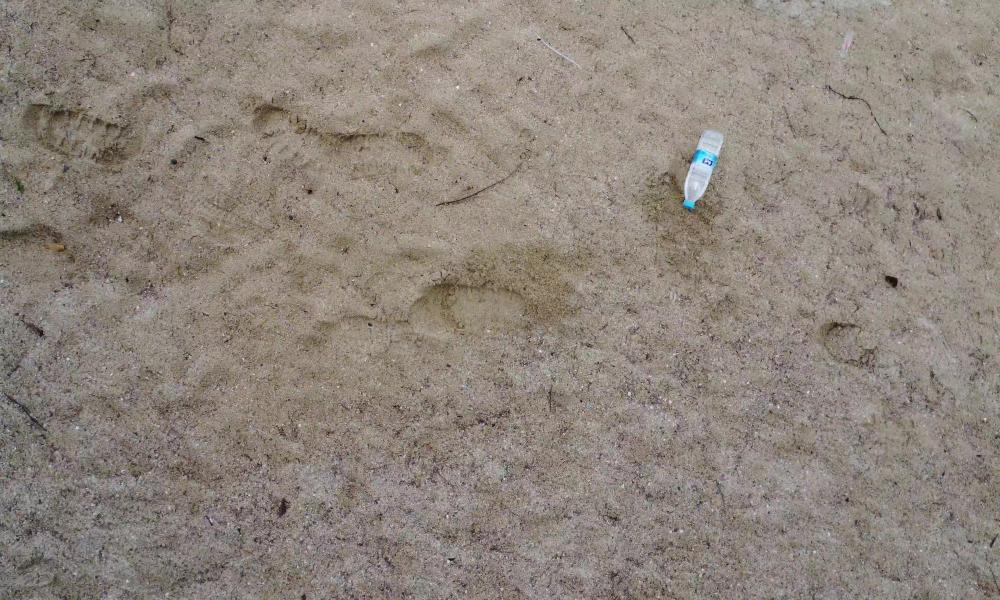plastic bottle: (664, 123, 732, 223)
